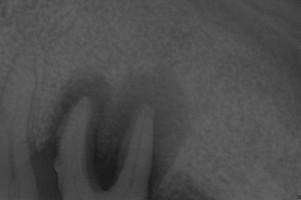Dental Caries: (43, 63, 192, 191)
